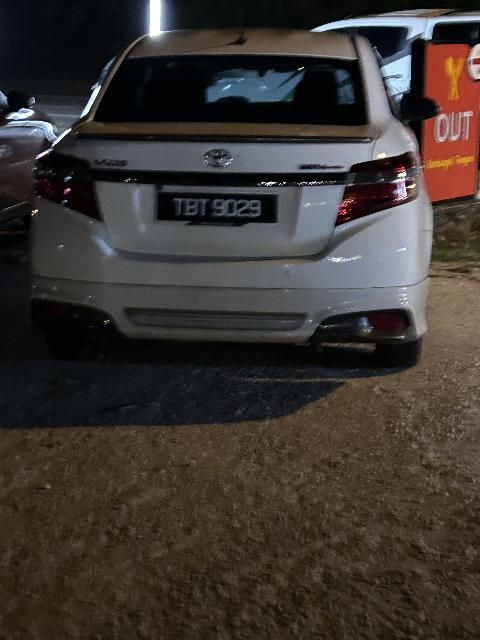License_Plate: (152, 186, 282, 229)
car: (19, 20, 434, 370)
